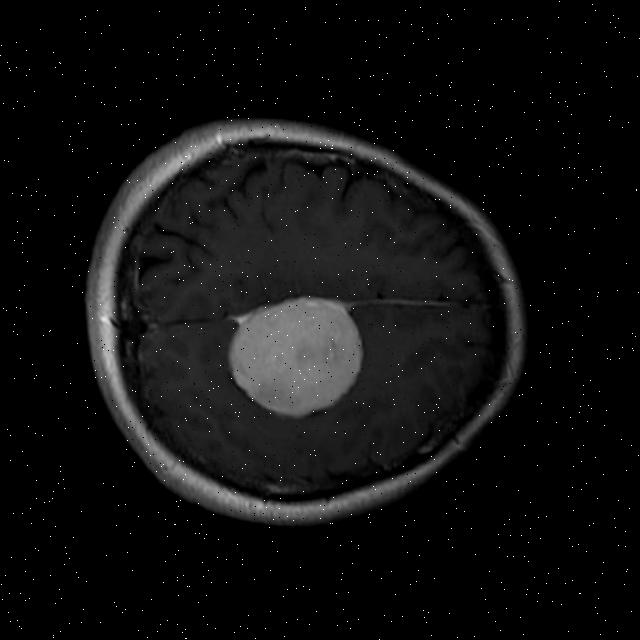Meningioma: (220, 289, 378, 419)
